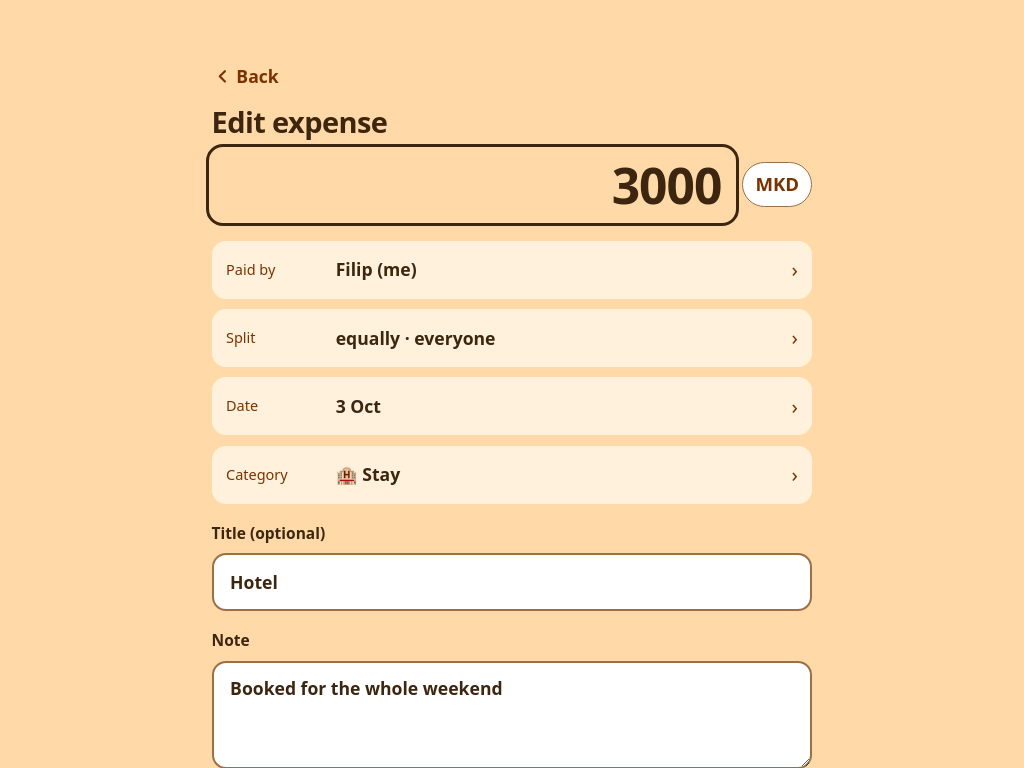
EditExpenseScreen › the Date sheet › shows the date of the expense in the field when the sheet opens
Click the button "Date 3 Oct ›": point(242, 406) [212,377,812,435]
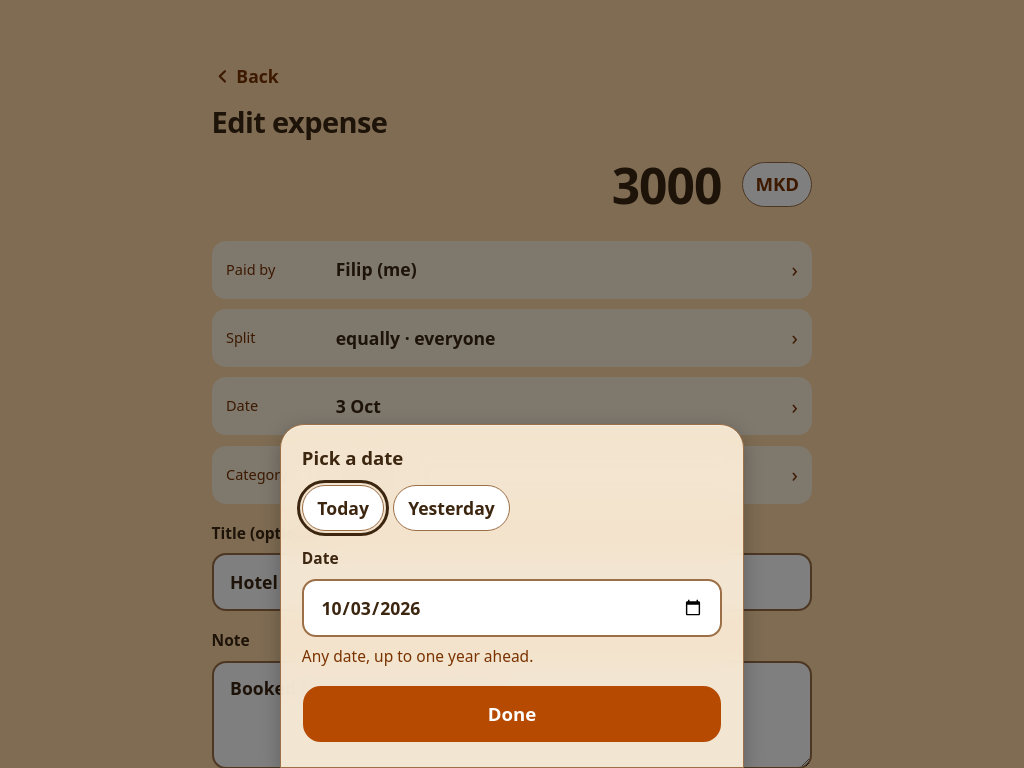
Expected: the date field labelled "Date" holds "2026-10-03", [302,579,722,637]
